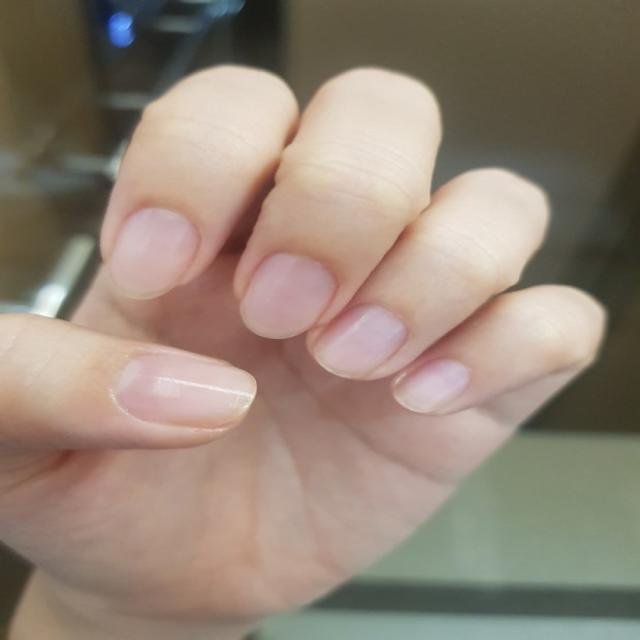Nail: (116, 353, 258, 426), (238, 253, 338, 339), (104, 210, 196, 301), (314, 303, 408, 380), (392, 357, 471, 413)
